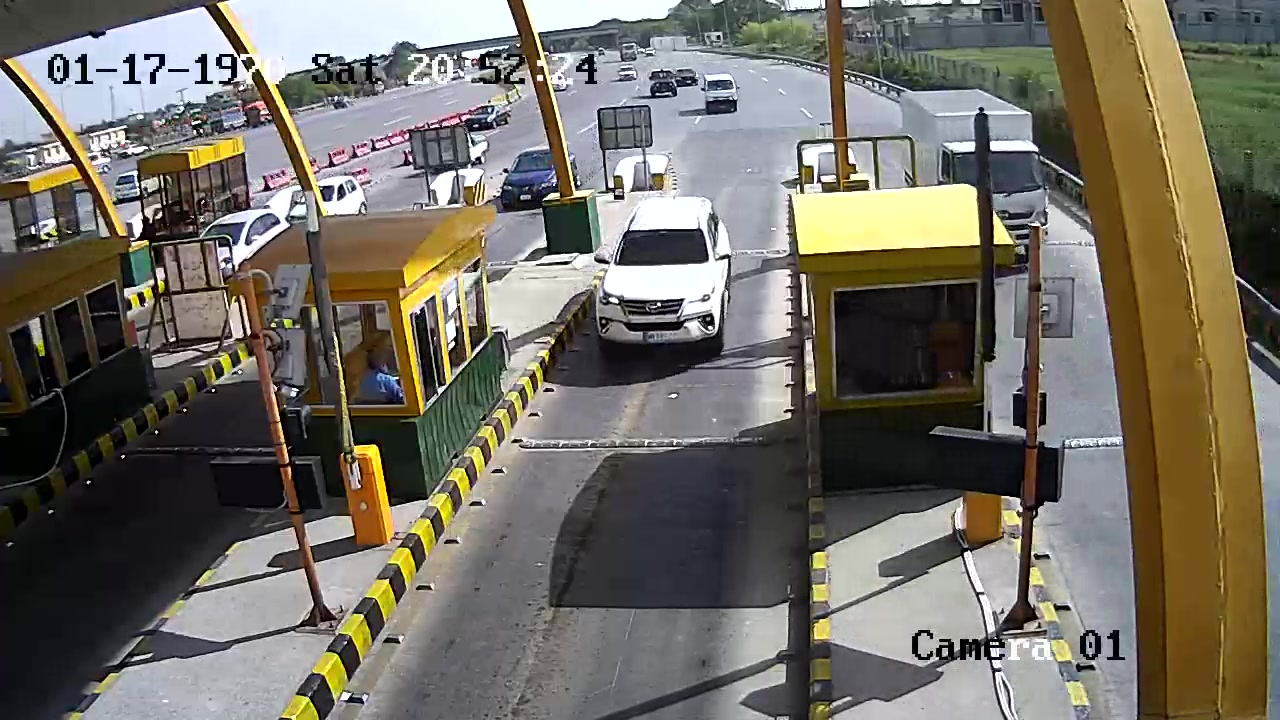F1: (586, 184, 745, 362)
